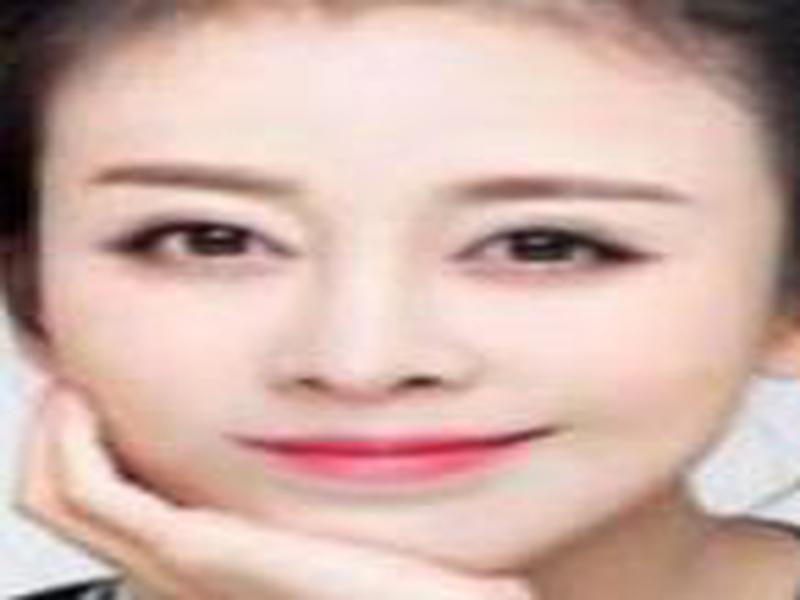without_mask: (38, 57, 761, 580)
